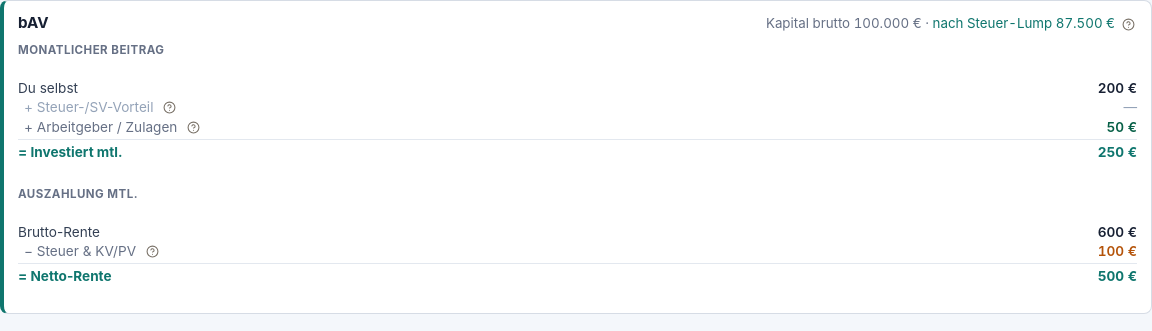
Test: ResultWaterfall — Abzugsquote uses formatPercent (issue #80) › renders Abzugsquote with locale percent formatting (no .toFixed raw output)
Click the button named "Aufschlüsselung der Abzüge anzeigen" at (1128, 24), box [1119, 15, 1137, 33]
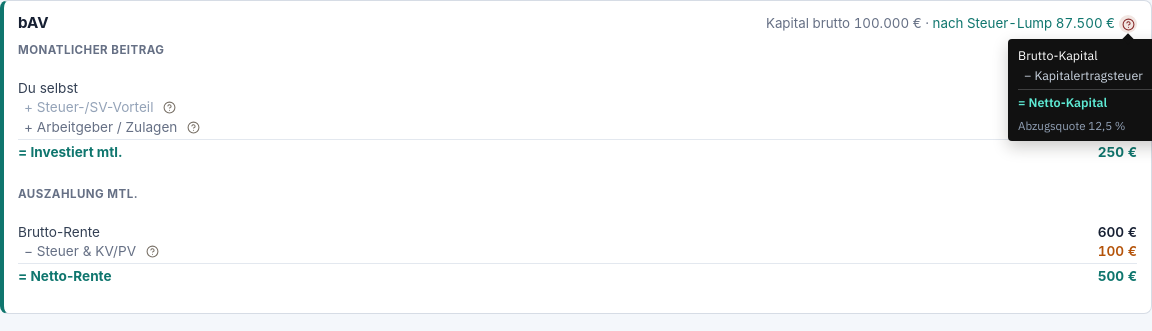
Check: the text "12,5" is shown, box [1088, 118, 1126, 133]
